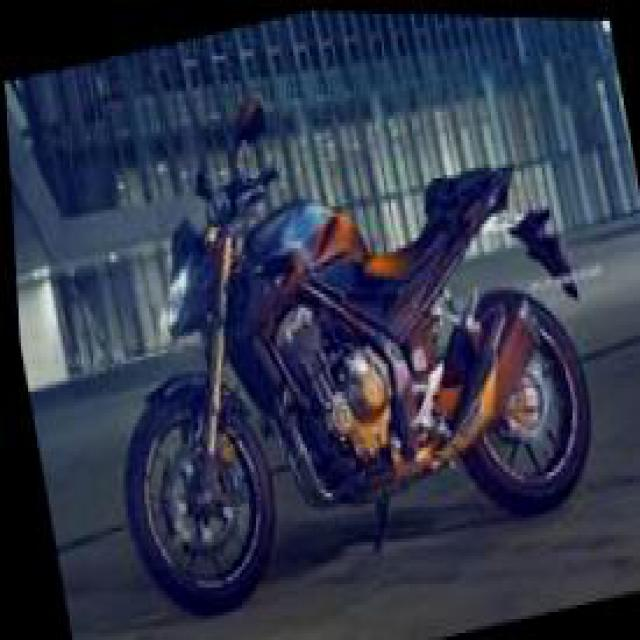CB500F: (68, 107, 612, 638)
